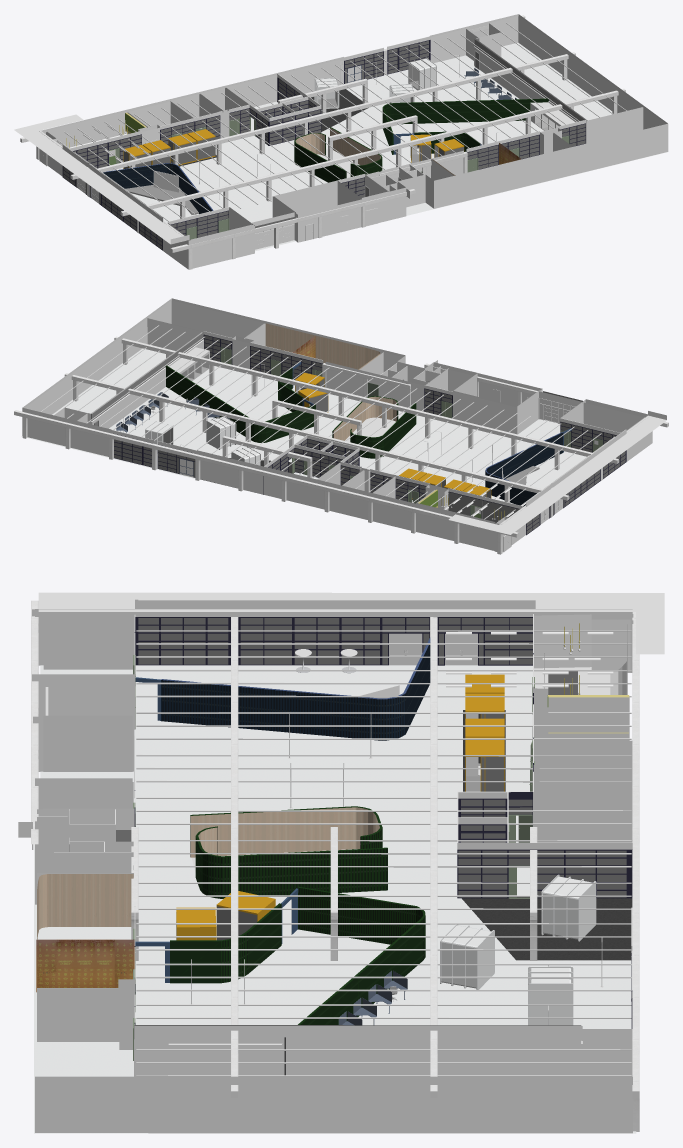
Rendered from TELLUS_modified.fbx.
The picture shows the model from 3 angles, top to bottom: view 1: azimuth 30°, elevation 25°; view 2: azimuth 150°, elevation 25°; view 3: azimuth 270°, elevation 25°; orthographic projection. The views are drawn at different scales.
Visible parts, largest first — view 1: walls, FLOOR, outerWalls, PILLARS_X_Z_002, tellus_windows_001, windows, YellowPillars, blueScreen, northsection_blue_windows_004, WAlls_002, Ceiling_A3_R_001, FURNITURE_001 (+4 smaller); view 2: walls, FLOOR, PILLARS_X_Z_002, outerWalls, tellus_windows_001, windows, YellowPillars, blueScreen, northsection_blue_windows_004, Ceiling_A3_R_001, WAlls_002, furniture_whiteBooths (+5 smaller); view 3: FLOOR, walls, outerWalls, YellowPillars, blueScreen, tellus_windows_001, windows, PILLARS_X_Z_002, WAlls_002, Ceiling_A3_R_001, furniture_whiteBooths, northsection_blue_windows_004 (+8 smaller).
Boxes of the visible parts, x1,y1,x2,y2 form: walls: (47,16,665,240); FLOOR: (110,42,668,251); outerWalls: (39,14,668,241); PILLARS_X_Z_002: (20,15,625,233); tellus_windows_001: (63,40,585,249); windows: (62,36,586,250); YellowPillars: (56,23,626,221); blueScreen: (294,98,548,182); northsection_blue_windows_004: (163,188,409,269); WAlls_002: (47,111,481,213); Ceiling_A3_R_001: (14,114,189,244); FURNITURE_001: (123,129,215,168); walls: (25,300,644,523); FLOOR: (21,348,586,503); PILLARS_X_Z_002: (14,336,618,554); outerWalls: (22,298,647,551); tellus_windows_001: (114,335,625,534); windows: (111,331,626,535); YellowPillars: (41,325,614,519); blueScreen: (165,365,416,458); northsection_blue_windows_004: (435,360,652,461); Ceiling_A3_R_001: (448,411,666,534); WAlls_002: (292,362,571,522); furniture_whiteBooths: (145,415,260,465); FLOOR: (34,665,636,1133); walls: (37,614,632,1076); outerWalls: (35,609,632,1133); YellowPillars: (136,630,631,1076); blueScreen: (170,806,425,1075); tellus_windows_001: (138,618,626,897); windows: (134,599,632,1028); PILLARS_X_Z_002: (131,612,639,1131); WAlls_002: (135,624,627,982); Ceiling_A3_R_001: (38,592,664,654); furniture_whiteBooths: (440,874,596,1025); northsection_blue_windows_004: (18,609,135,837).
Size of the model in its own units: 18519 by 1209 by 10306.
Materials: 64 (14 with a texture image).
